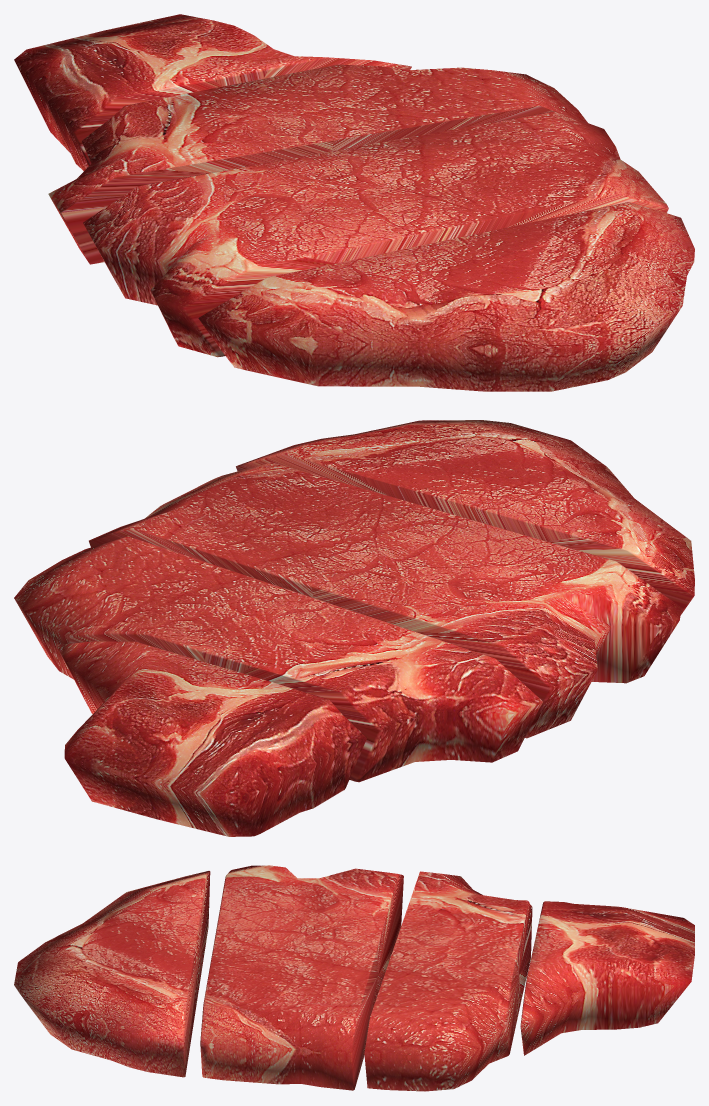
The model's file is RawMeat_slice 1.FBX.
The picture shows the model from 3 angles, top to bottom: view 1: azimuth 30°, elevation 25°; view 2: azimuth 150°, elevation 25°; view 3: azimuth 270°, elevation 25°; orthographic projection. The views are drawn at different scales.
Parts seen in each view (by area): view 1: Raw_meat_slice; view 2: Raw_meat_slice; view 3: Raw_meat_slice.
Boxes of the visible parts, x1=… form: Raw_meat_slice: x1=14, y1=14, x2=694, y2=391; Raw_meat_slice: x1=14, y1=420, x2=694, y2=836; Raw_meat_slice: x1=14, y1=865, x2=694, y2=1091.
Size of the model in its own units: 98.31 by 15.09 by 147.
